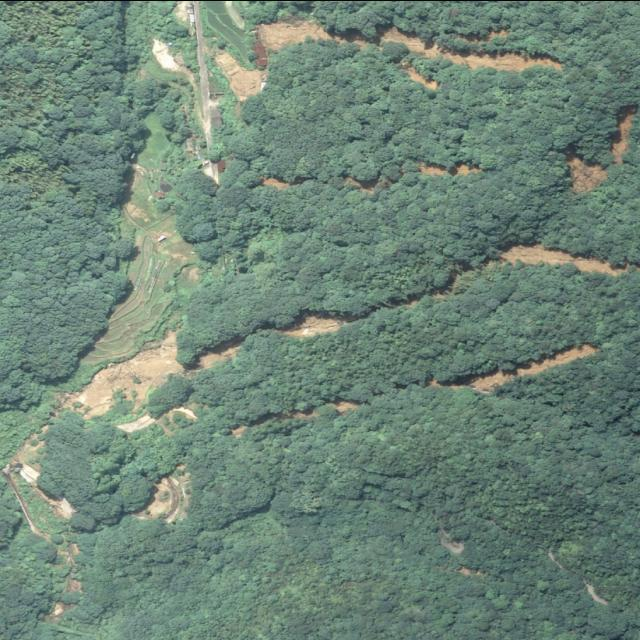landslide: (255, 15, 563, 69), (60, 329, 244, 419), (429, 241, 634, 295), (266, 291, 427, 337), (461, 343, 600, 392), (215, 48, 265, 98), (141, 239, 195, 282), (564, 145, 607, 192), (611, 104, 637, 162), (398, 58, 438, 87), (126, 266, 156, 302), (418, 160, 483, 175), (343, 174, 392, 191), (260, 174, 303, 188)
